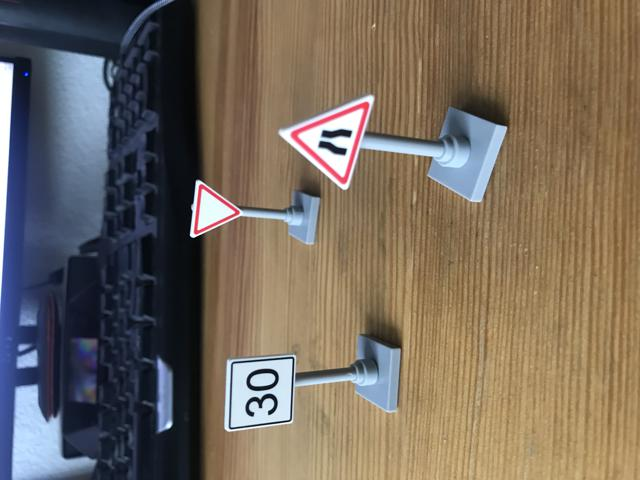tempolimit 30: (62, 85, 169, 186)
verengte fahrbahn: (379, 158, 522, 299)
vorfahrt gewähren: (316, 41, 403, 112)
